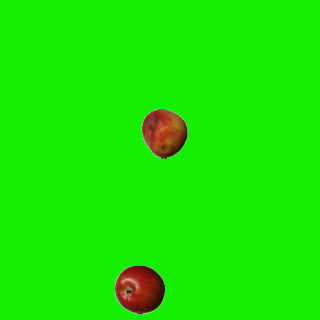Apple Braeburn: (114, 264, 164, 314)
Peach: (139, 108, 189, 158)
